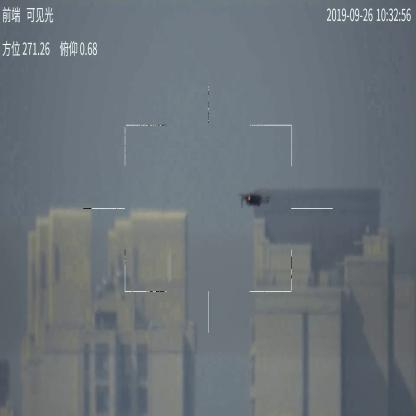uav: (236, 191, 276, 206)
